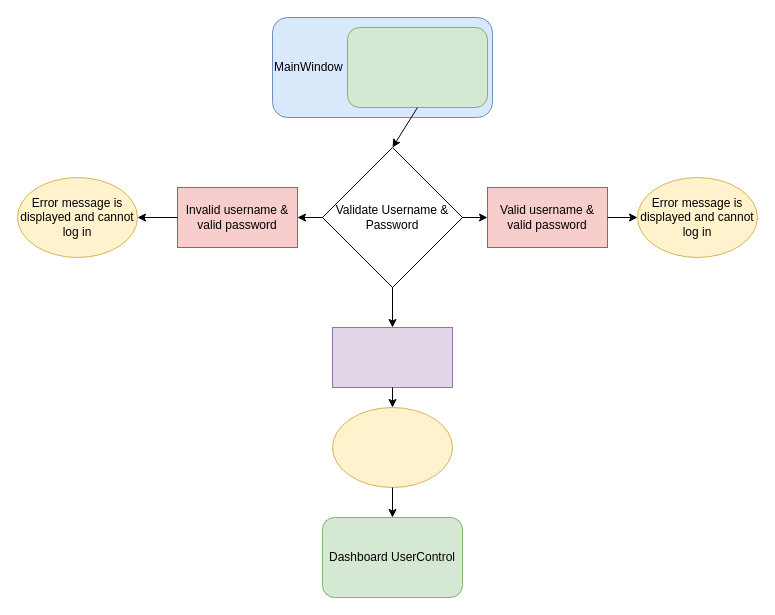
Some shapes in this 775 by 615 pixel diagram are drawn without their labels. Here are the shapes that lost their labels. From the top down, the centre of each, then its label:
At point (417, 67): "Login UserControl".
At point (392, 357): "Valid username & password".
At point (392, 447): "Login successfully and user's dashboard is displayed".
